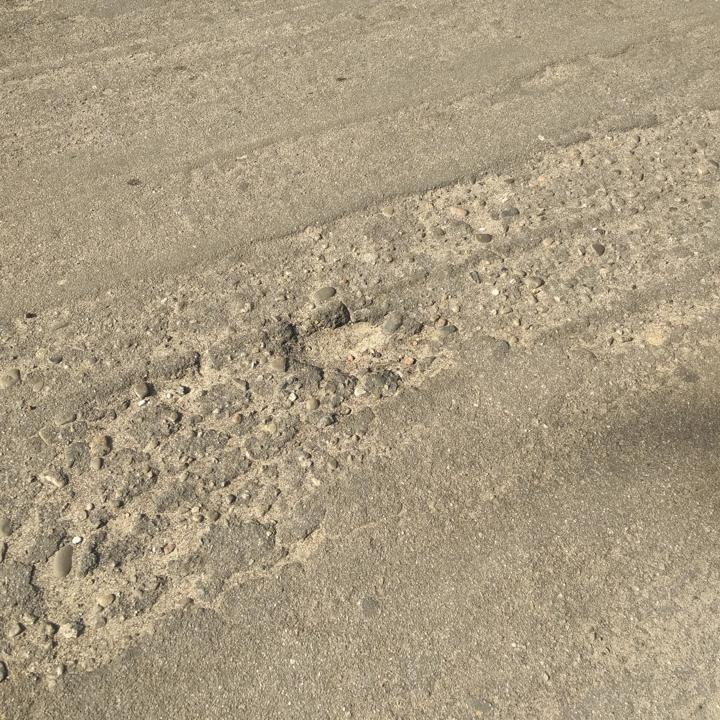pothole: (281, 310, 396, 367)
